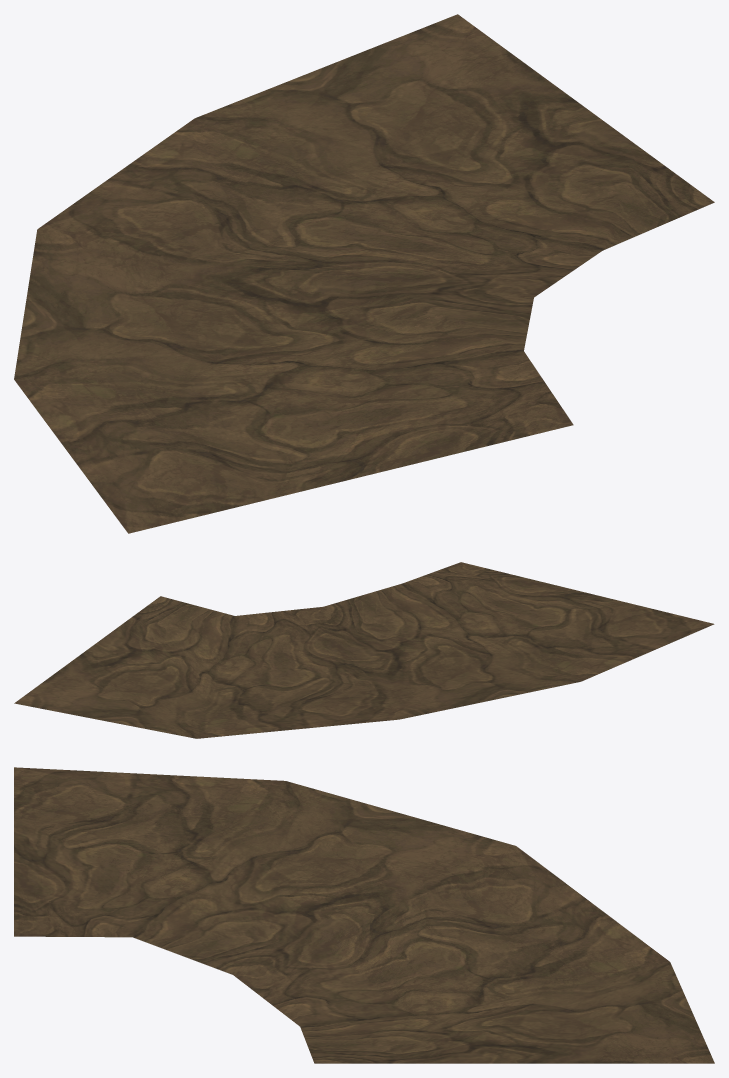
The model's file is cave floor corner.FBX.
3 views of the same model, one above another, from view 1: azimuth 30°, elevation 25°; view 2: azimuth 150°, elevation 25°; view 3: azimuth 270°, elevation 25° (orthographic). The views are drawn at different scales.
Parts seen in each view (by area): view 1: cave floor corner; view 2: cave floor corner; view 3: cave floor corner.
Boxes of the visible parts, left/top/right/bottom form: cave floor corner: left=14, top=14, right=714, bottom=533; cave floor corner: left=14, top=562, right=714, bottom=738; cave floor corner: left=14, top=767, right=714, bottom=1063.
Size of the model in its own units: 35 by 1.49 by 35.
